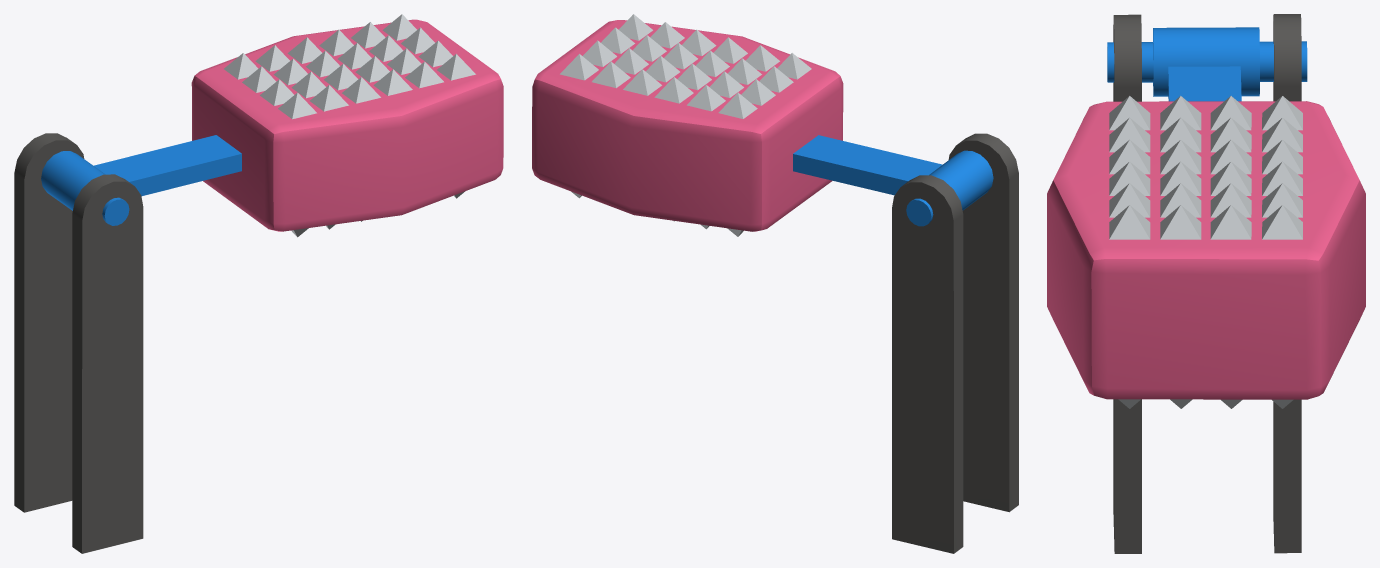
File: trap_02.fbx
3 renders of one model, left to right at view 1: azimuth 30°, elevation 25°; view 2: azimuth 150°, elevation 25°; view 3: azimuth 270°, elevation 25°, orthographic. The views are drawn at different scales.
Visible parts, largest first — view 1: hammer_2, base_2; view 2: hammer_2, base_2; view 3: hammer_2, base_2.
Boxes of the visible parts, x1,y1,x2,y2 form: hammer_2: [41, 14, 503, 237]; base_2: [14, 133, 143, 553]; hammer_2: [532, 14, 993, 236]; base_2: [892, 133, 1018, 553]; hammer_2: [1047, 27, 1365, 408]; base_2: [1107, 14, 1307, 553].
Bounding box in the file's own units: 2636 × 2427 × 1234.
